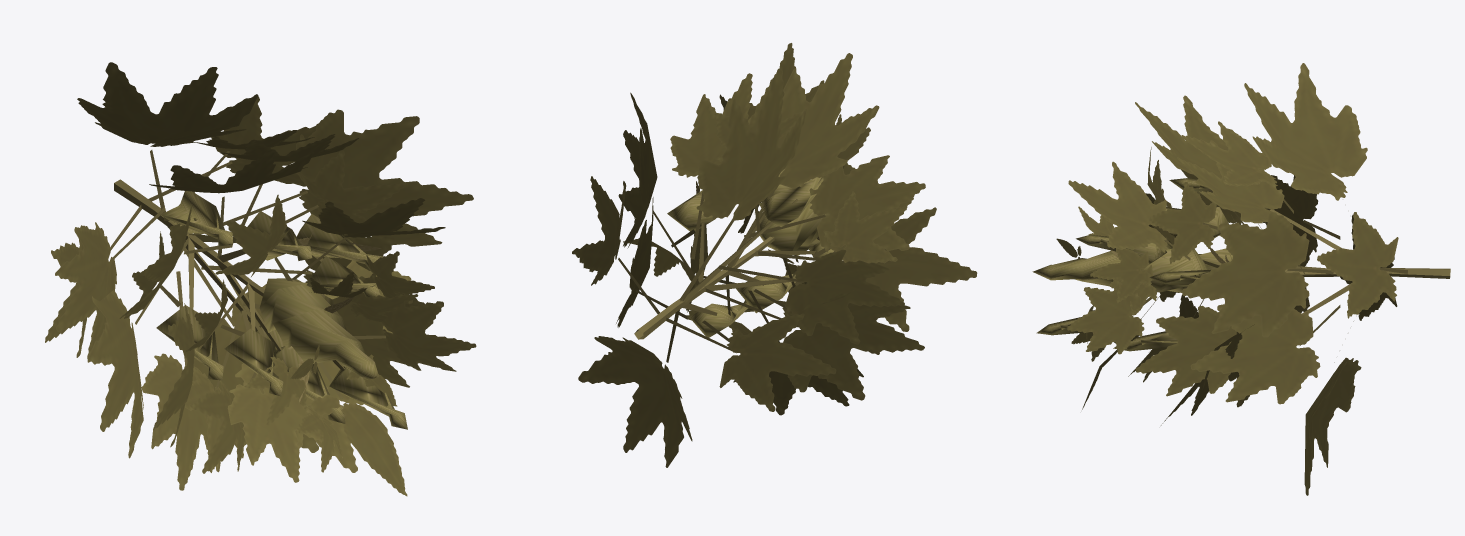
Rendered from p_kush_flowering_c2_cards.obj.
3 renders of one model, left to right at view 1: azimuth 30°, elevation 25°; view 2: azimuth 150°, elevation 25°; view 3: azimuth 270°, elevation 25°, orthographic. The views are drawn at different scales.
Size of the model in its own units: 1.3 by 1.56 by 1.33.
Materials: 1 (1 with a texture image).
